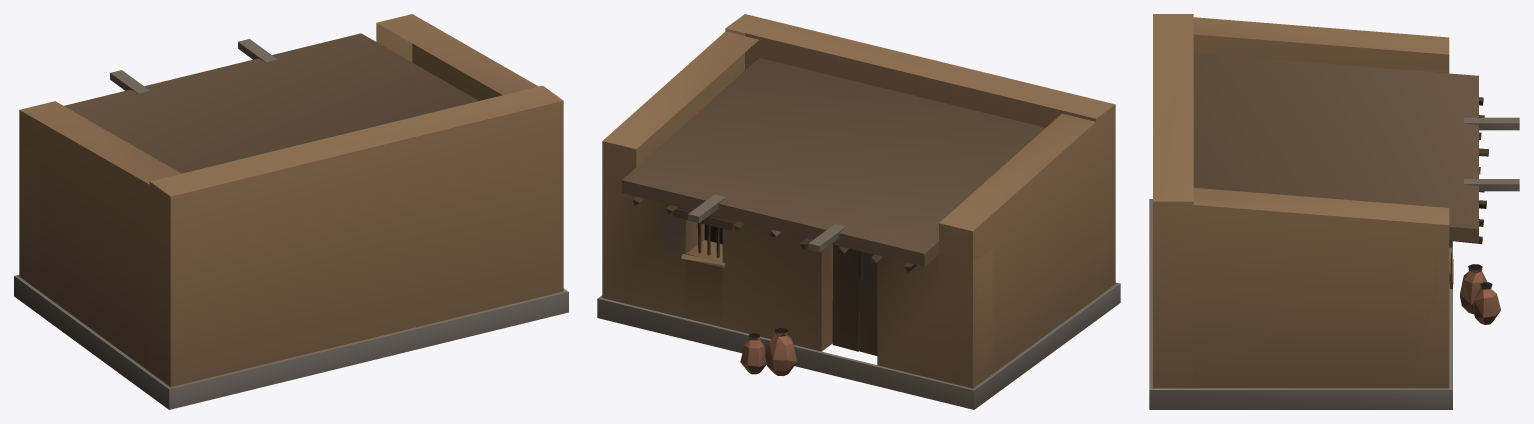
File: casa_torta_a_lod.glb
3 renders of one model, left to right at view 1: azimuth 30°, elevation 25°; view 2: azimuth 150°, elevation 25°; view 3: azimuth 270°, elevation 25°, orthographic. The views are drawn at different scales.
Parts seen in each view (by area): view 1: casa_torta_a; view 2: casa_torta_a; view 3: casa_torta_a.
Part boxes in pixels (left/top/right/bottom): casa_torta_a: left=14, top=14, right=568, bottom=409; casa_torta_a: left=597, top=14, right=1120, bottom=409; casa_torta_a: left=1149, top=14, right=1519, bottom=409.
Size of the model in its own units: 6.1 by 3.08 by 5.
